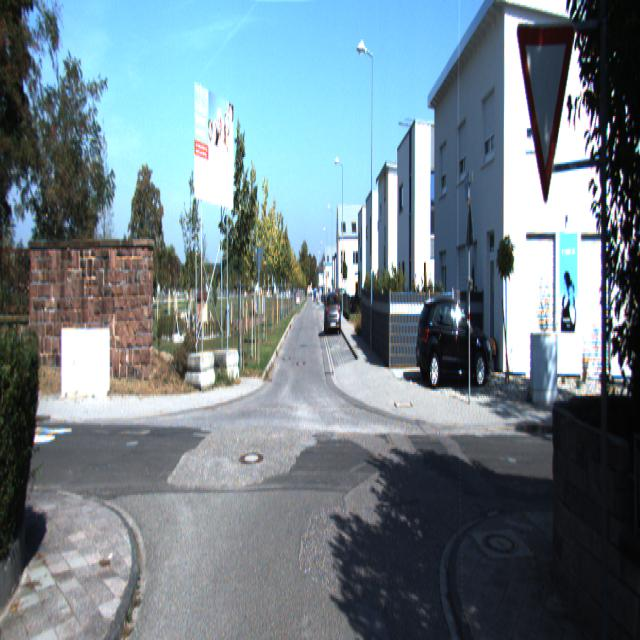Car: (414, 285, 494, 387), (324, 288, 340, 332)
